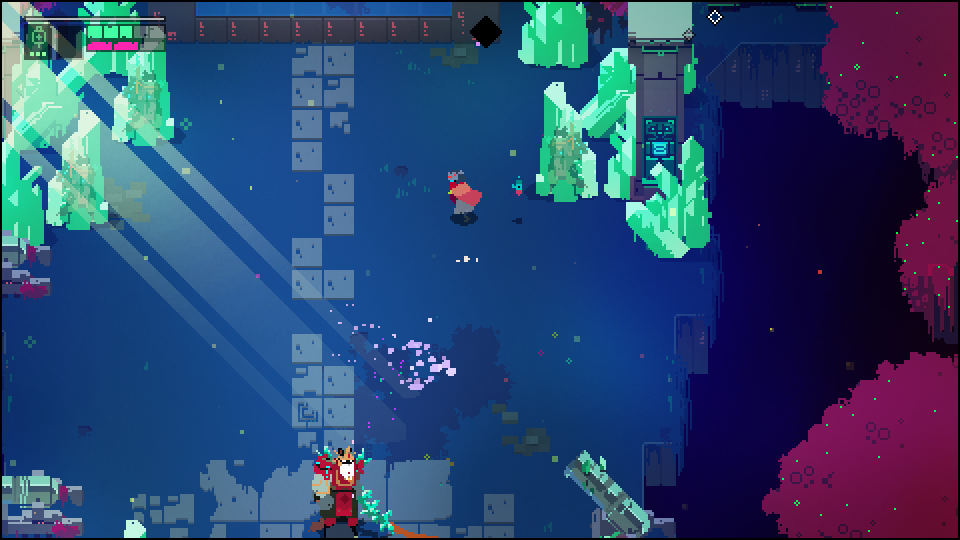hanged_man: (305, 439, 400, 540)
player: (443, 170, 485, 229)
